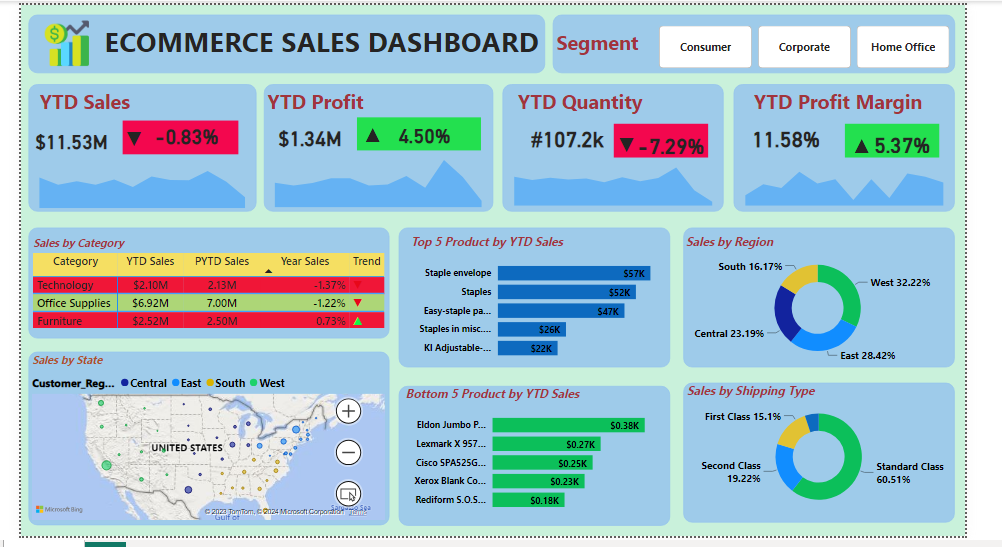

Layout of this report page (visuals, bound fields, positions):
{"tool":"powerbi","page":{"name":"Page 1","canvas":[1280,720],"ordinal":0},"visuals":[{"type":"textbox","box":[9.5,13.3,700.9,79.8],"z":0},{"type":"textbox","box":[9.5,107.9,309.3,172.9],"z":1000},{"type":"shape","box":[138,157,157,46],"z":2000},{"type":"cardVisual","fields":{"Data":["ecommerce_data.YTD Sales"]},"box":[0,144.3,138,77.7],"z":3000},{"type":"areaChart","fields":{"Category":["Calender.Month"],"Y":["Sum(ecommerce_data.sales_per_order)"]},"box":[9.5,203,309.3,77.7],"z":4000},{"type":"cardVisual","fields":{"Data":["ecommerce_data.Year Sales"]},"box":[153.9,136.4,141.2,77.7],"z":5000},{"type":"cardVisual","fields":{"Data":["ecommerce_data.Sales Icon"]},"box":[119,142.8,68.2,61.9],"z":6000},{"type":"textbox","box":[20.6,107.9,165,53.9],"z":7000},{"type":"textbox","box":[329.9,107.9,310.9,172.9],"z":8000},{"type":"areaChart","fields":{"Category":["Calender.Month"],"Y":["Sum(ecommerce_data.profit_per_order)"]},"box":[329.9,195.1,310.9,85.7],"z":9000},{"type":"textbox","box":[329.9,107.9,193.5,53.9],"z":10000},{"type":"cardVisual","fields":{"Data":["ecommerce_data.YTD Profit"]},"box":[329.9,136.4,125.3,79.3],"z":11000},{"type":"shape","box":[455.2,152.3,168.1,44.4],"z":12000},{"type":"cardVisual","fields":{"Data":["ecommerce_data.Year Profit"]},"box":[485.4,136.4,125.3,77.7],"z":13000},{"type":"cardVisual","fields":{"Data":["ecommerce_data.Profit Icon"]},"box":[440.9,136.4,71.4,58.7],"z":14000},{"type":"textbox","box":[653.5,107.9,299.8,172.9],"z":15000},{"type":"areaChart","fields":{"Category":["Calender.Month"],"Y":["Sum(ecommerce_data.order_quantity)"]},"box":[655.1,204.6,298.2,73],"z":16000},{"type":"textbox","box":[655.1,107.9,207.8,49.2],"z":17000},{"type":"shape","box":[804.2,161.8,128.5,46],"z":18000},{"type":"cardVisual","fields":{"Data":["ecommerce_data.Year Qty"]},"box":[815.3,149.1,131.6,58.7],"z":19000},{"type":"cardVisual","fields":{"Data":["ecommerce_data.Quantity Icon"]},"box":[780.4,149.1,80.9,66.6],"z":20000},{"type":"cardVisual","fields":{"Data":["ecommerce_data.YTD Concatenated Qty"]},"box":[667.8,141.2,147.5,74.5],"z":21000},{"type":"textbox","box":[967.4,107.5,299.8,172.9],"z":22000},{"type":"areaChart","fields":{"Category":["Calender.Month"],"Y":["ecommerce_data.Profit Margin"]},"box":[969,204.2,298.2,73],"z":23000},{"type":"textbox","box":[969.1,107.9,277.6,49.2],"z":24000},{"type":"shape","box":[1118,161.4,128.5,46],"z":25000},{"type":"cardVisual","fields":{"Data":["ecommerce_data.Year Profit Margin"]},"box":[1129.1,148.7,131.6,58.7],"z":26000},{"type":"cardVisual","fields":{"Data":["ecommerce_data.Profit Margin Icon"]},"box":[1100.8,150.7,80.9,66.6],"z":27000},{"type":"cardVisual","fields":{"Data":["ecommerce_data.YTD Profit Margin"]},"box":[966.9,140.6,142.5,76],"z":28000},{"type":"textbox","box":[9.5,301.4,490.1,150.7],"z":29000},{"type":"pivotTable","title":"Sales by Category","fields":{"Rows":["ecommerce_data.category_name"],"Values":["ecommerce_data.YTD Sales","ecommerce_data.PYTD Sales","ecommerce_data.Year Sales","ecommerce_data.Sales Icon"]},"box":[11.4,311.5,488.2,140.6],"z":30000},{"type":"textbox","box":[9.5,471.1,490.1,235.5],"z":31000},{"type":"textbox","box":[512.9,302,368.5,190],"z":32000},{"type":"textbox","box":[512.9,516.7,368.5,190],"z":33000},{"type":"barChart","title":"Top 5 Product by YTD Sales","fields":{"Category":["ecommerce_data.product_name"],"Y":["ecommerce_data.YTD Sales"]},"box":[523.4,310.9,345.8,180.8],"z":34000},{"type":"barChart","title":"Bottom 5 Product by YTD Sales","fields":{"Category":["ecommerce_data.product_name"],"Y":["ecommerce_data.YTD Sales"]},"box":[516.7,516.7,345.7,180.5],"z":35000},{"type":"textbox","box":[898.5,302,368.5,190],"z":36000},{"type":"textbox","box":[898.5,512.9,368.5,190],"z":37000},{"type":"donutChart","title":"Sales by Region","fields":{"Category":["ecommerce_data.customer_region"],"Y":["ecommerce_data.YTD Sales"]},"box":[897.7,310.9,368,180.8],"z":38000},{"type":"donutChart","title":"Sales by Shipping Type","fields":{"Y":["ecommerce_data.YTD Sales"],"Category":["ecommerce_data.shipping_type"]},"box":[899.3,512.3,368,180.8],"z":39000},{"type":"textbox","box":[721.7,12.7,545.6,79.3],"z":40000},{"type":"advancedSlicerVisual","fields":{"Values":["ecommerce_data.customer_segment"]},"box":[861.3,23.8,406,68.2],"z":41000},{"type":"textbox","box":[721.7,27,165,53.9],"z":42000},{"type":"map","title":"Sales by State","fields":{"Y":["us_state_long_lat_codes.latitude"],"X":["us_state_long_lat_codes.longitude"],"Size":["ecommerce_data.YTD Sales"],"Series":["ecommerce_data.customer_region"]},"box":[10.2,471.8,489.3,232.3],"z":43000},{"type":"image","box":[11.3,11.3,101.7,80.7],"z":43001}]}

Visuals, with their boxes on the page's 1280x720 design canvas (x1, y1, x2, y2). These are canvas units, not pixel positions in the 1002x547 screenshot, which may show the page scaled, cropped or inside an application window:
textbox: box(10, 13, 710, 93)
textbox: box(10, 108, 319, 281)
shape: box(138, 157, 295, 203)
cardVisual - ecommerce_data.YTD Sales: box(0, 144, 138, 222)
areaChart - Calender.Month x Sum(ecommerce_data.sales_per_order): box(10, 203, 319, 281)
cardVisual - ecommerce_data.Year Sales: box(154, 136, 295, 214)
cardVisual - ecommerce_data.Sales Icon: box(119, 143, 187, 205)
textbox: box(21, 108, 186, 162)
textbox: box(330, 108, 641, 281)
areaChart - Calender.Month x Sum(ecommerce_data.profit_per_order): box(330, 195, 641, 281)
textbox: box(330, 108, 523, 162)
cardVisual - ecommerce_data.YTD Profit: box(330, 136, 455, 216)
shape: box(455, 152, 623, 197)
cardVisual - ecommerce_data.Year Profit: box(485, 136, 611, 214)
cardVisual - ecommerce_data.Profit Icon: box(441, 136, 512, 195)
textbox: box(654, 108, 953, 281)
areaChart - Calender.Month x Sum(ecommerce_data.order_quantity): box(655, 205, 953, 278)
textbox: box(655, 108, 863, 157)
shape: box(804, 162, 933, 208)
cardVisual - ecommerce_data.Year Qty: box(815, 149, 947, 208)
cardVisual - ecommerce_data.Quantity Icon: box(780, 149, 861, 216)
cardVisual - ecommerce_data.YTD Concatenated Qty: box(668, 141, 815, 216)
textbox: box(967, 108, 1267, 280)
areaChart - Calender.Month x ecommerce_data.Profit Margin: box(969, 204, 1267, 277)
textbox: box(969, 108, 1247, 157)
shape: box(1118, 161, 1246, 207)
cardVisual - ecommerce_data.Year Profit Margin: box(1129, 149, 1261, 207)
cardVisual - ecommerce_data.Profit Margin Icon: box(1101, 151, 1182, 217)
cardVisual - ecommerce_data.YTD Profit Margin: box(967, 141, 1109, 217)
textbox: box(10, 301, 500, 452)
"Sales by Category" pivotTable: box(11, 312, 500, 452)
textbox: box(10, 471, 500, 707)
textbox: box(513, 302, 881, 492)
textbox: box(513, 517, 881, 707)
"Top 5 Product by YTD Sales" barChart: box(523, 311, 869, 492)
"Bottom 5 Product by YTD Sales" barChart: box(517, 517, 862, 697)
textbox: box(898, 302, 1267, 492)
textbox: box(898, 513, 1267, 703)
"Sales by Region" donutChart: box(898, 311, 1266, 492)
"Sales by Shipping Type" donutChart: box(899, 512, 1267, 693)
textbox: box(722, 13, 1267, 92)
advancedSlicerVisual - ecommerce_data.customer_segment: box(861, 24, 1267, 92)
textbox: box(722, 27, 887, 81)
"Sales by State" map: box(10, 472, 500, 704)
image: box(11, 11, 113, 92)
